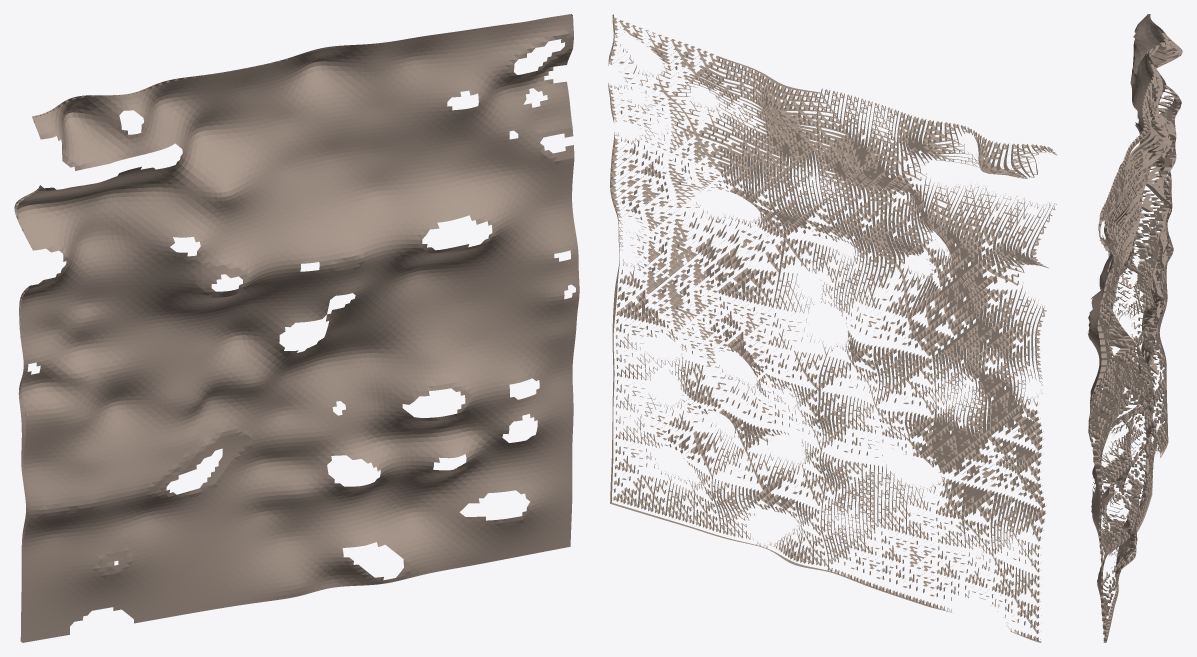
The picture shows the model from 3 angles, left to right: view 1: azimuth 30°, elevation 25°; view 2: azimuth 150°, elevation 25°; view 3: azimuth 270°, elevation 25°; orthographic projection. The views are drawn at different scales.
Visible parts, largest first — view 1: world; view 2: world; view 3: world.
Boxes of the visible parts, x1,y1,x2,y2 form: world: (14, 14, 579, 642); world: (608, 14, 1056, 642); world: (1088, 14, 1182, 642).
Bounding box in the file's own units: 12800 × 12800 × 2583.
